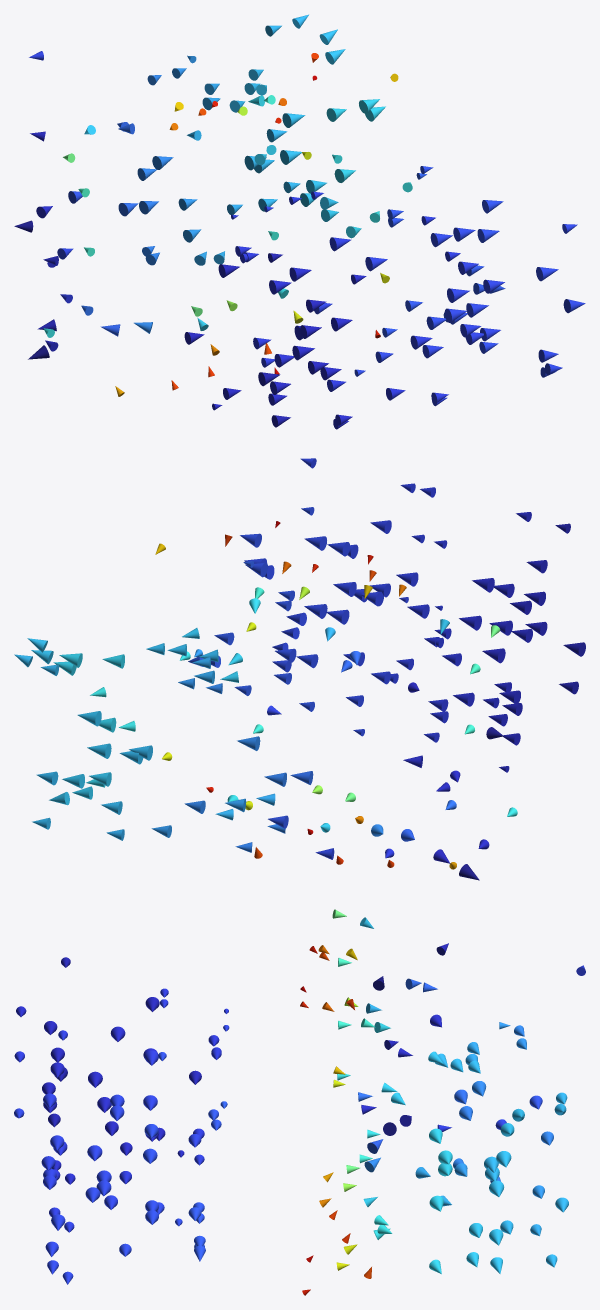
The model's file is LineasCorrienteN2-H2O_mh2-2.70_V-1.1.glb.
The picture shows the model from 3 angles, top to bottom: view 1: azimuth 30°, elevation 25°; view 2: azimuth 150°, elevation 25°; view 3: azimuth 270°, elevation 25°; orthographic projection. The views are drawn at different scales.
Size of the model in its own units: 0.000999 by 0.0007 by 0.00122.
2 materials, 2 textured.
